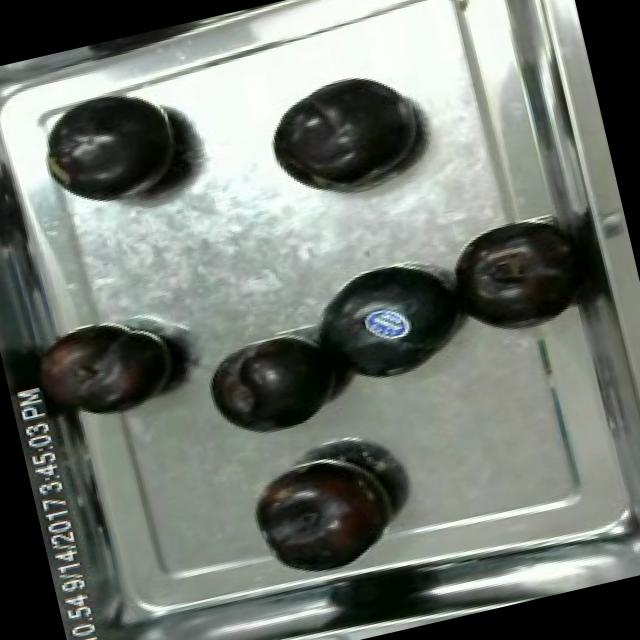Fruit: (291, 243, 476, 402), (27, 76, 204, 226), (253, 60, 431, 206), (238, 442, 408, 590), (23, 303, 194, 435), (438, 208, 586, 344), (195, 324, 348, 450)
